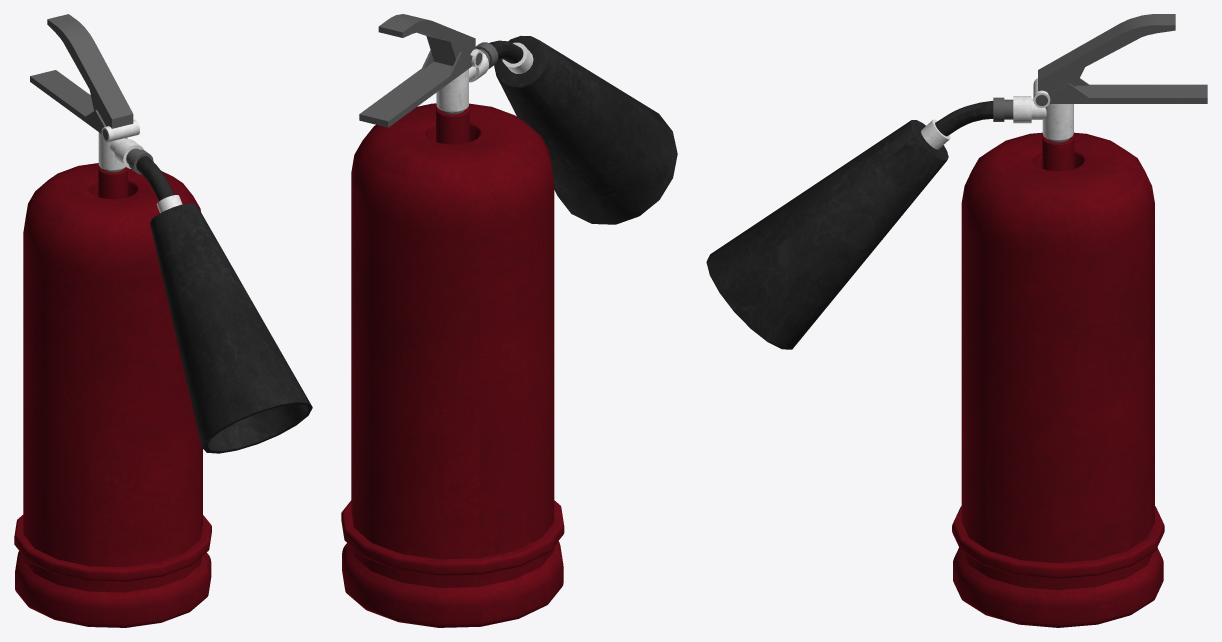
Rendered from fire_extinguisher.obj.
3 renders of one model, left to right at view 1: azimuth 30°, elevation 25°; view 2: azimuth 150°, elevation 25°; view 3: azimuth 270°, elevation 25°, orthographic. The views are drawn at different scales.
Visible parts, largest first — view 1: fire_extinguisher; view 2: fire_extinguisher; view 3: fire_extinguisher.
Part boxes in pixels (left/top/right/bottom): fire_extinguisher: left=14, top=14, right=312, bottom=627; fire_extinguisher: left=341, top=14, right=677, bottom=627; fire_extinguisher: left=706, top=14, right=1207, bottom=627.
Bounding box in the file's own units: 0.2041 × 0.5995 × 0.4814.
1 material, 1 textured.
